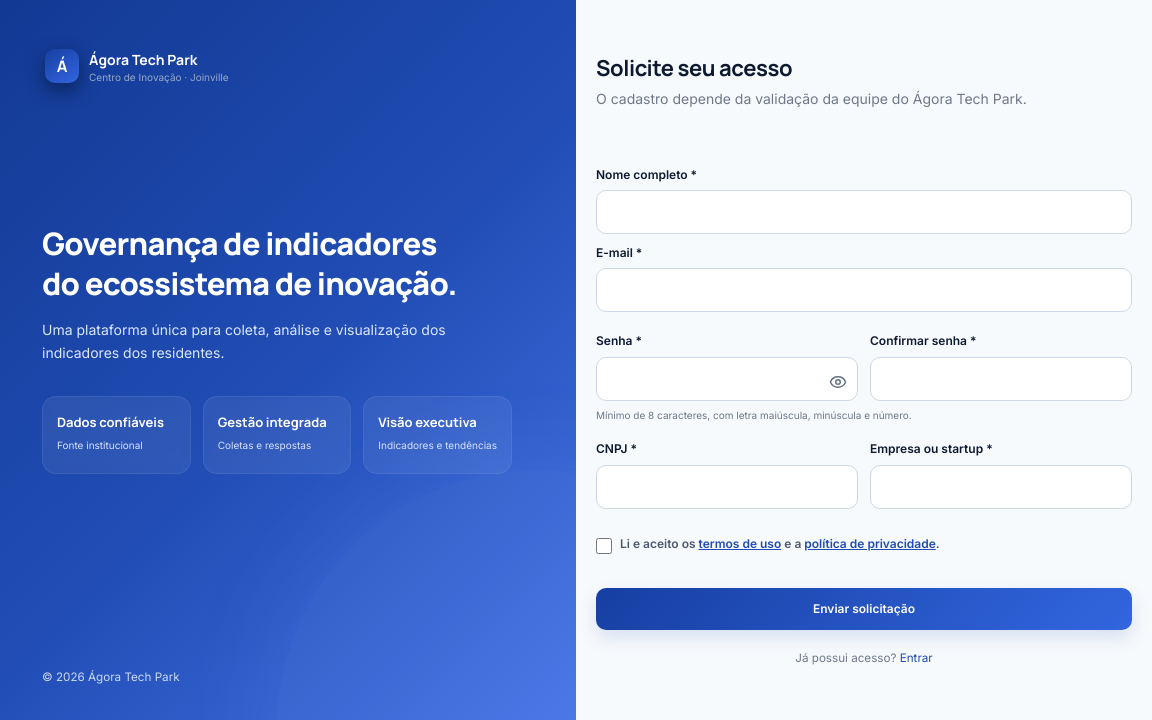
Test: páginas públicas de autenticação › não sugere novo cadastro quando já existe uma solicitação
Type "Pessoa Teste" into the field labelled "Nome completo *" at point(864, 212), box [596,190,1132,234]
Type "pessoa@test.com" into the field labelled "E-mail *" at point(864, 290), box [596,268,1132,312]
Type "Senha123" into the password field labelled "Senha *" at point(727, 379), box [596,357,858,401]
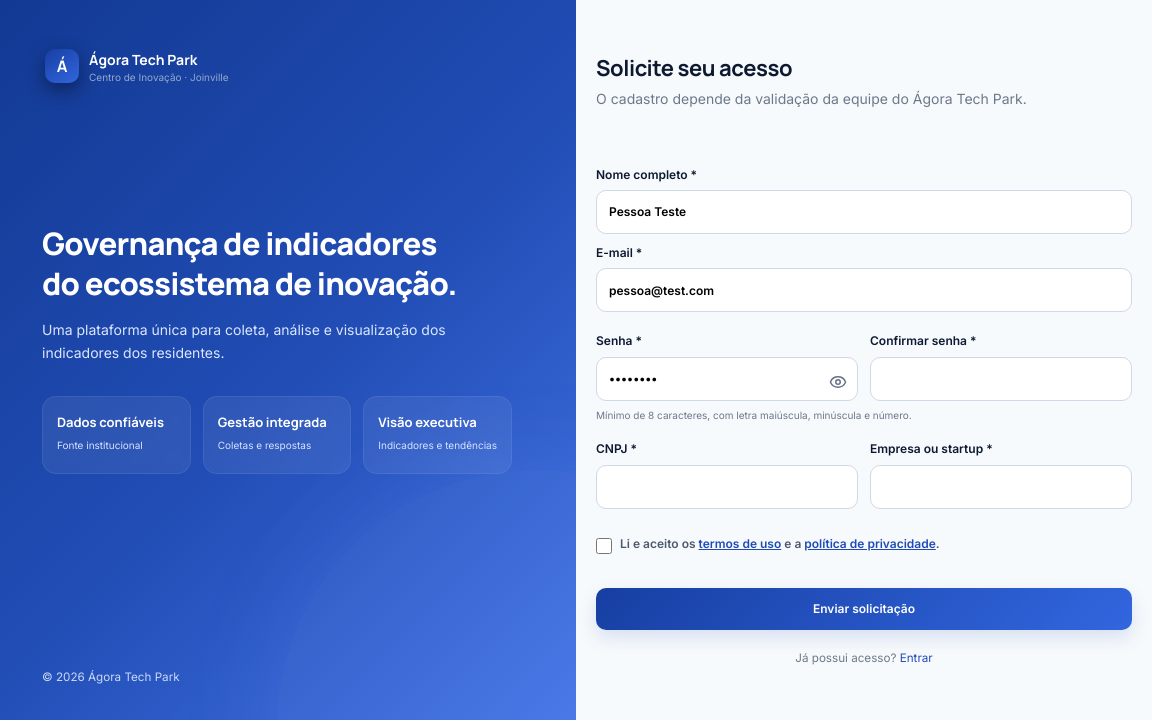
Type "Senha123" into the password field labelled "Confirmar senha *" at point(1001, 379), box [870,357,1132,401]
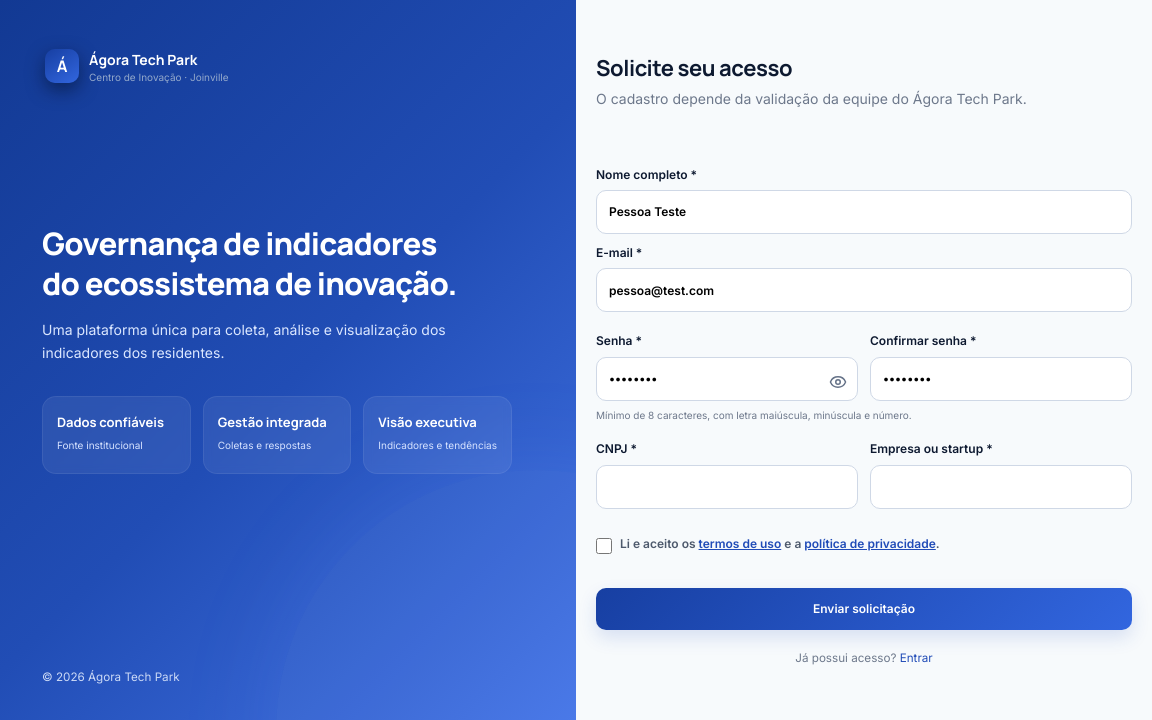
Type "11222333000181" into the field labelled "CNPJ *" at point(727, 487), box [596,465,858,509]
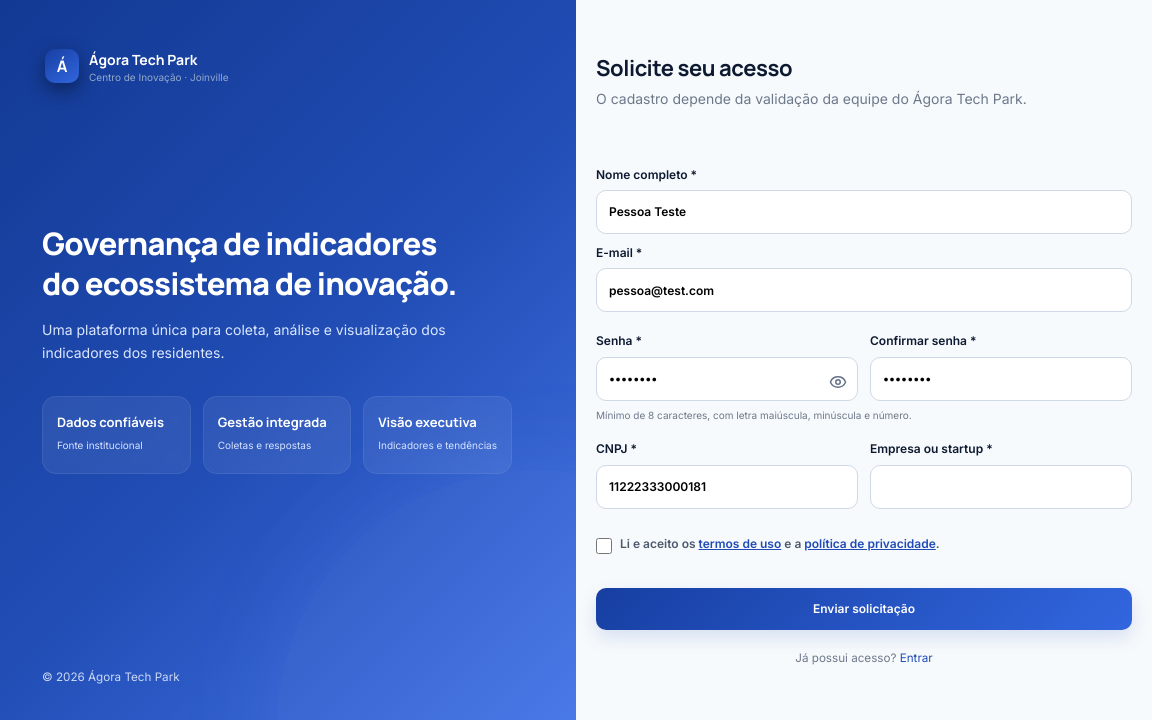
Type "Startup" into the field labelled "Empresa ou startup *" at point(1001, 487), box [870,465,1132,509]
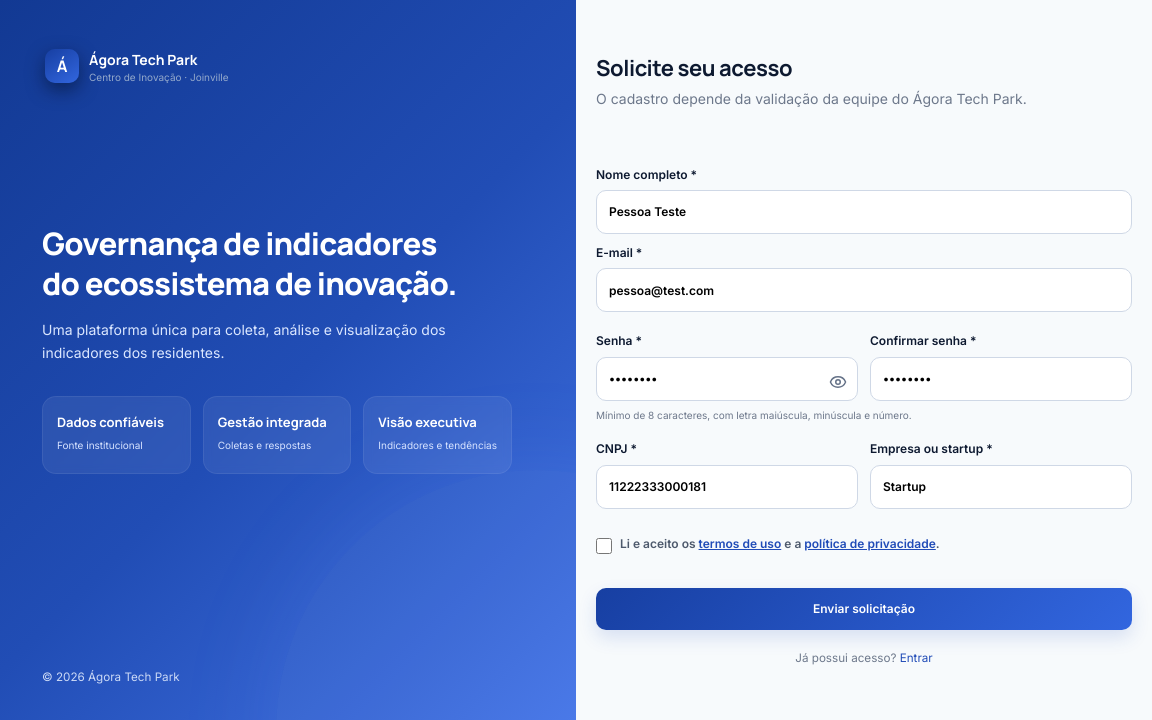
Click the checkbox labelled "Li e aceito os termos de uso e a política de privacidade ." at point(604, 546), box [596,538,612,554]
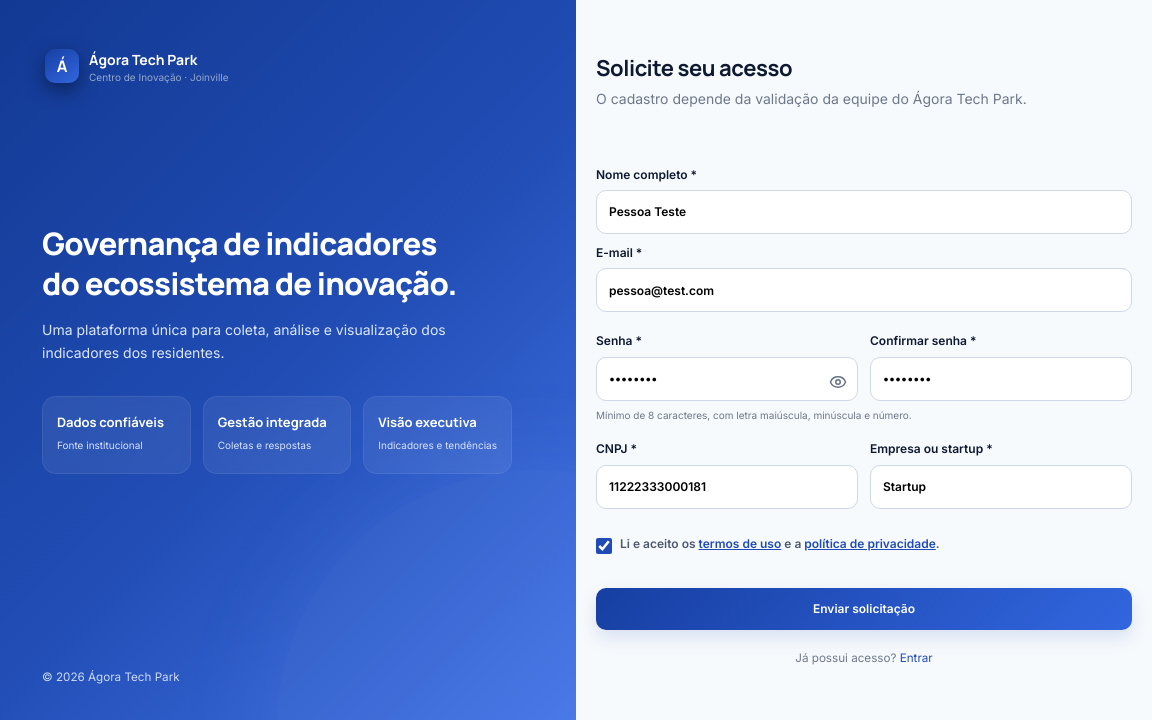
Click the button "Enviar solicitação" at point(864, 609), box [596,588,1132,630]
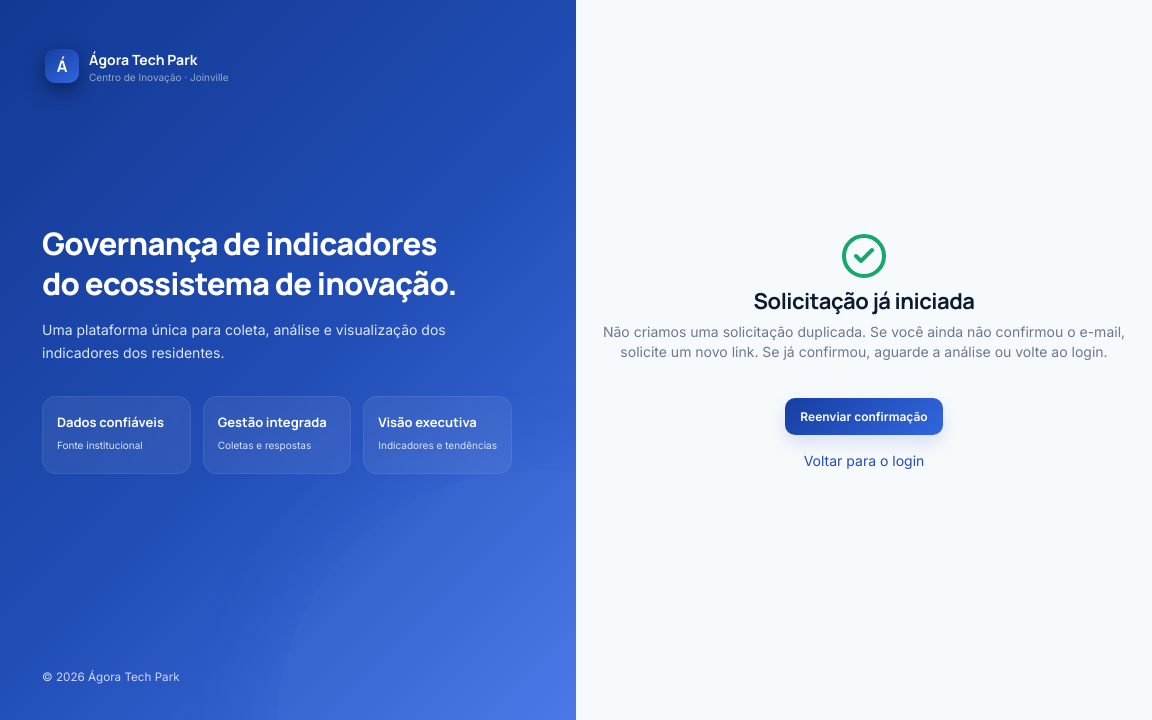
Check: the heading "Solicitação já iniciada" is shown, box [754,286,975,316]
Check: the text "Não criamos uma solicitação duplicada" is shown, box [603,322,1125,360]
